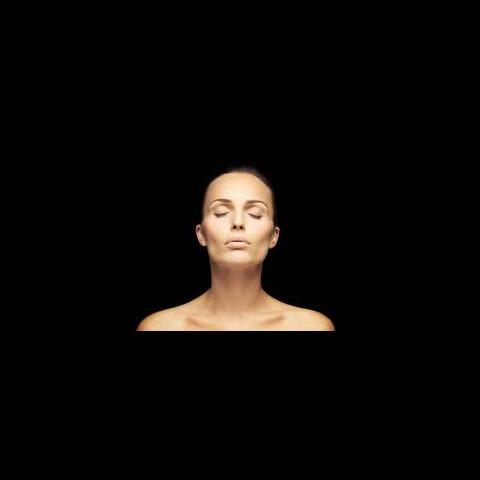closed: (208, 197, 270, 223)
